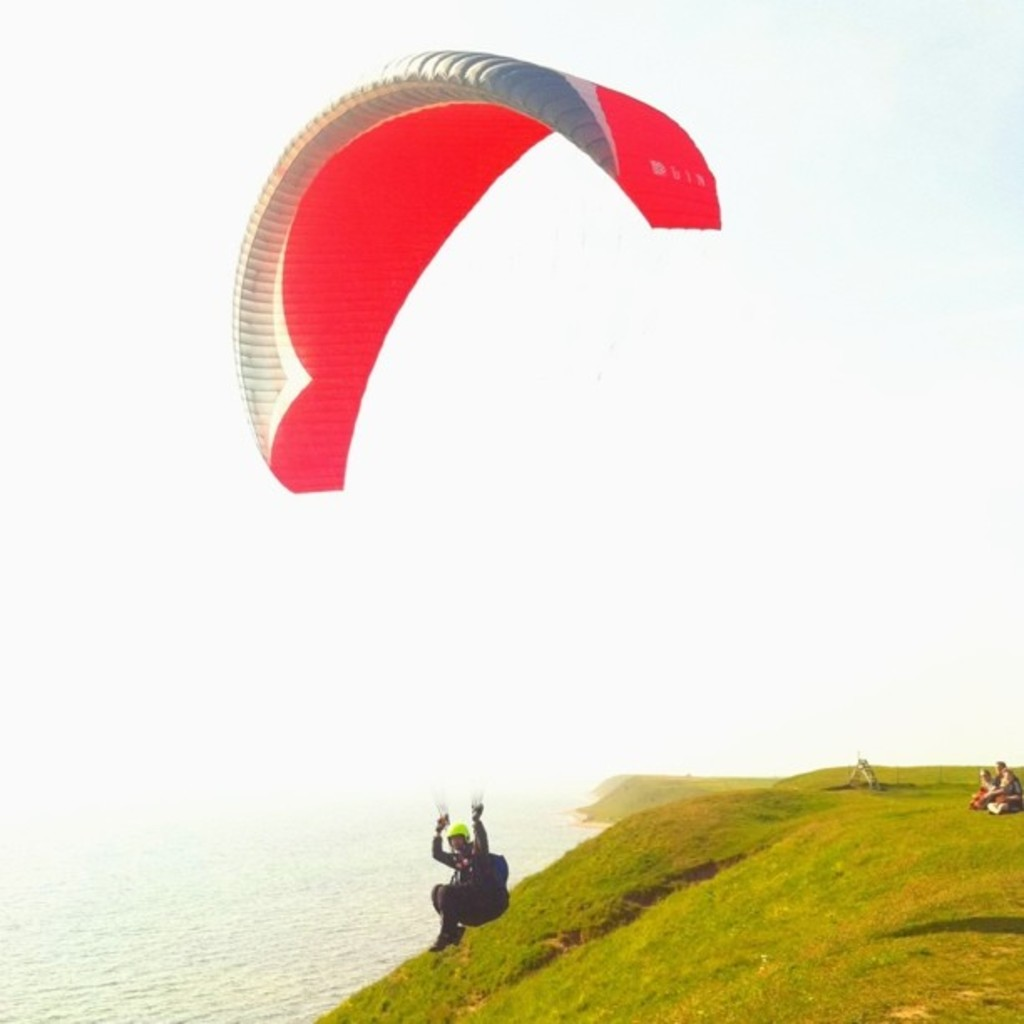Person: (427, 797, 512, 952), (970, 763, 1024, 816)
